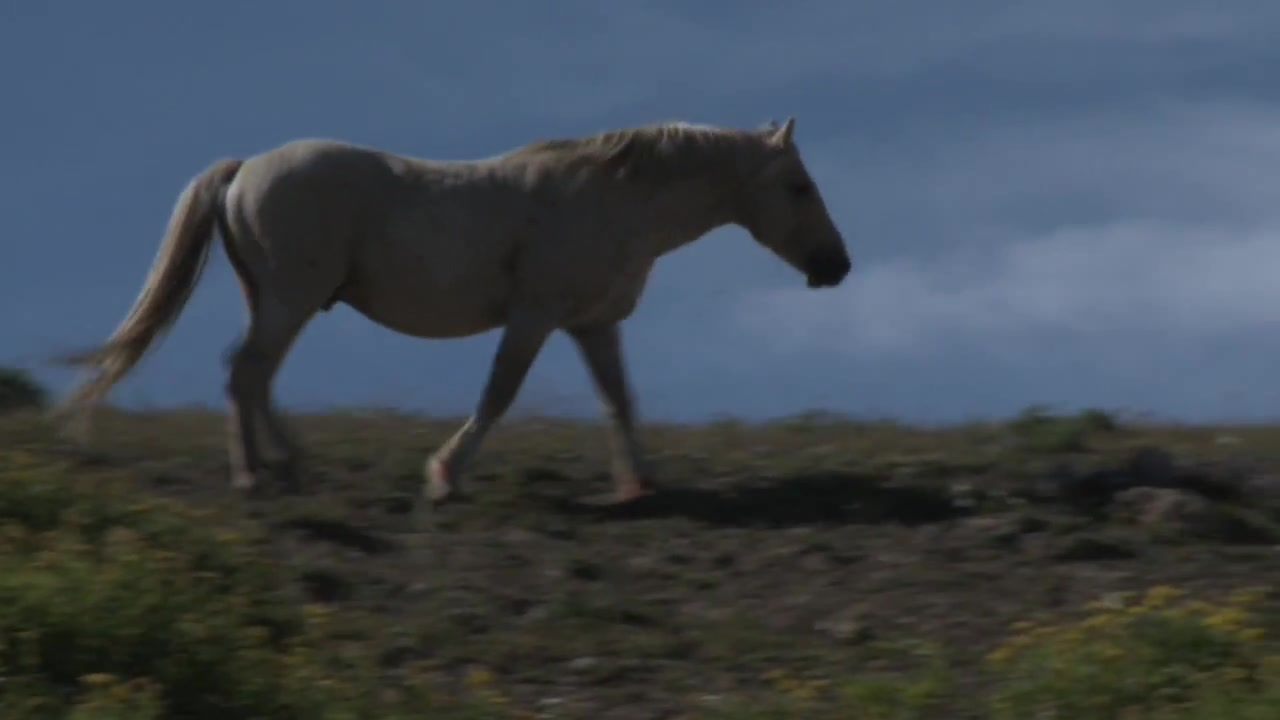horse: (59, 116, 858, 517)
